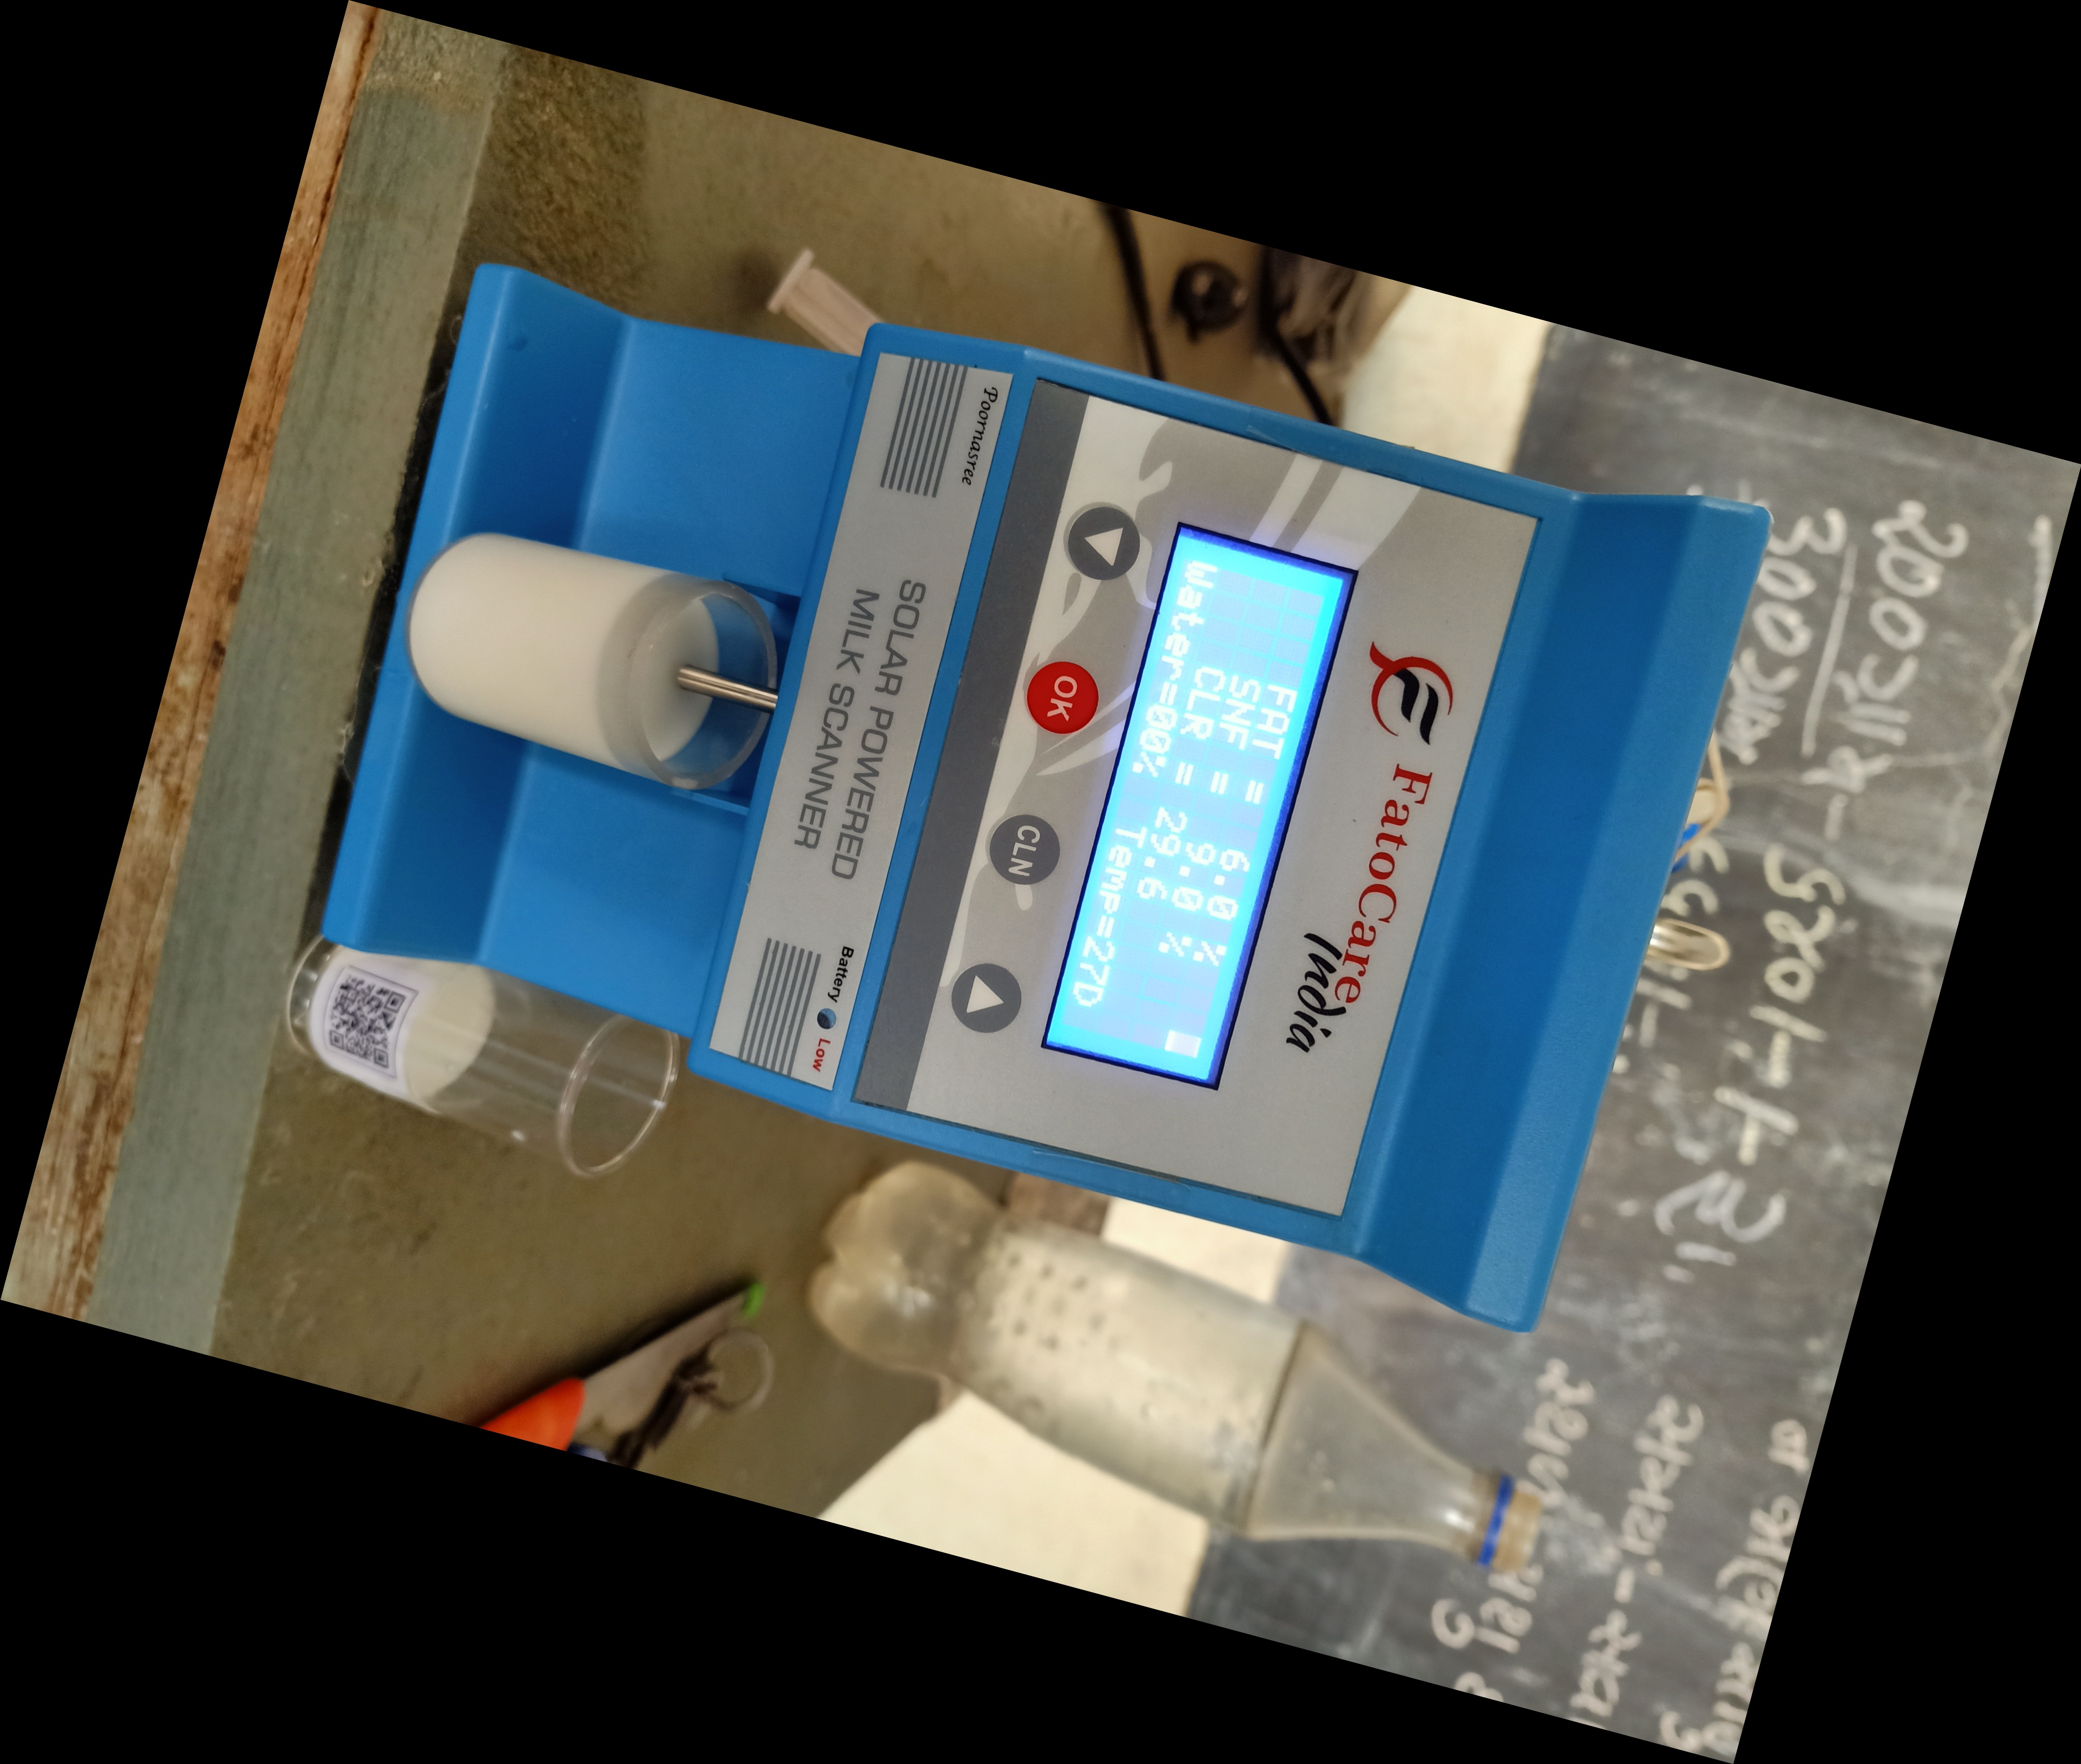lcd: (1027, 478, 1367, 1123)
qr: (305, 954, 431, 1101)
